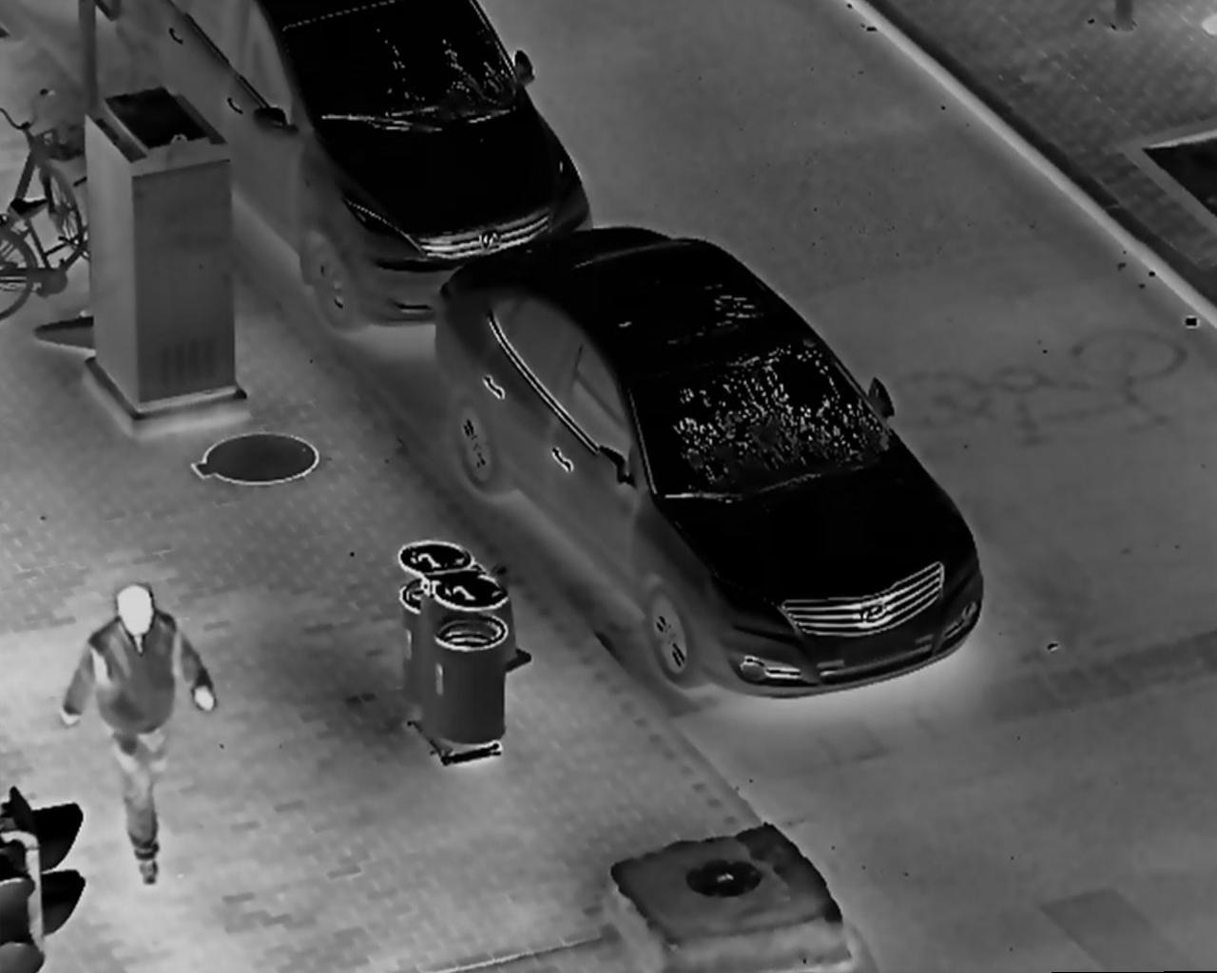person: (54, 584, 222, 889)
